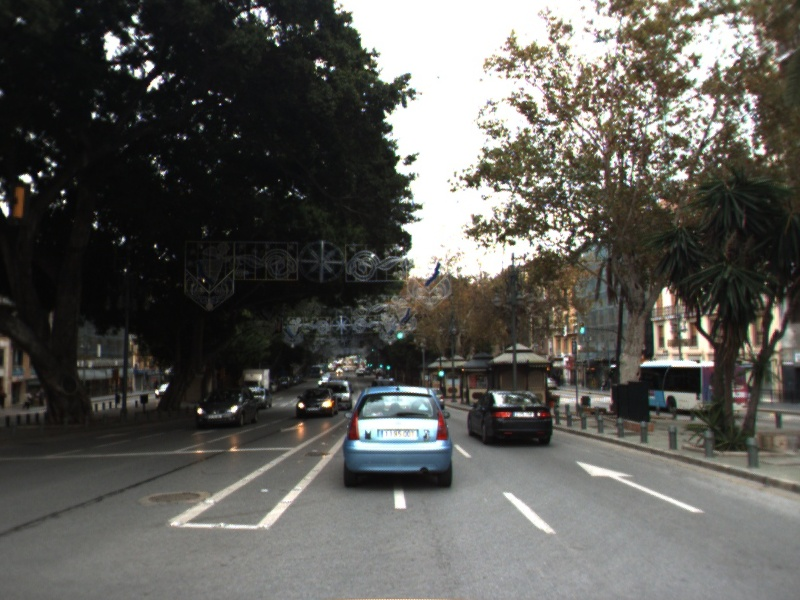STRAIGHT: (575, 460, 706, 514)
